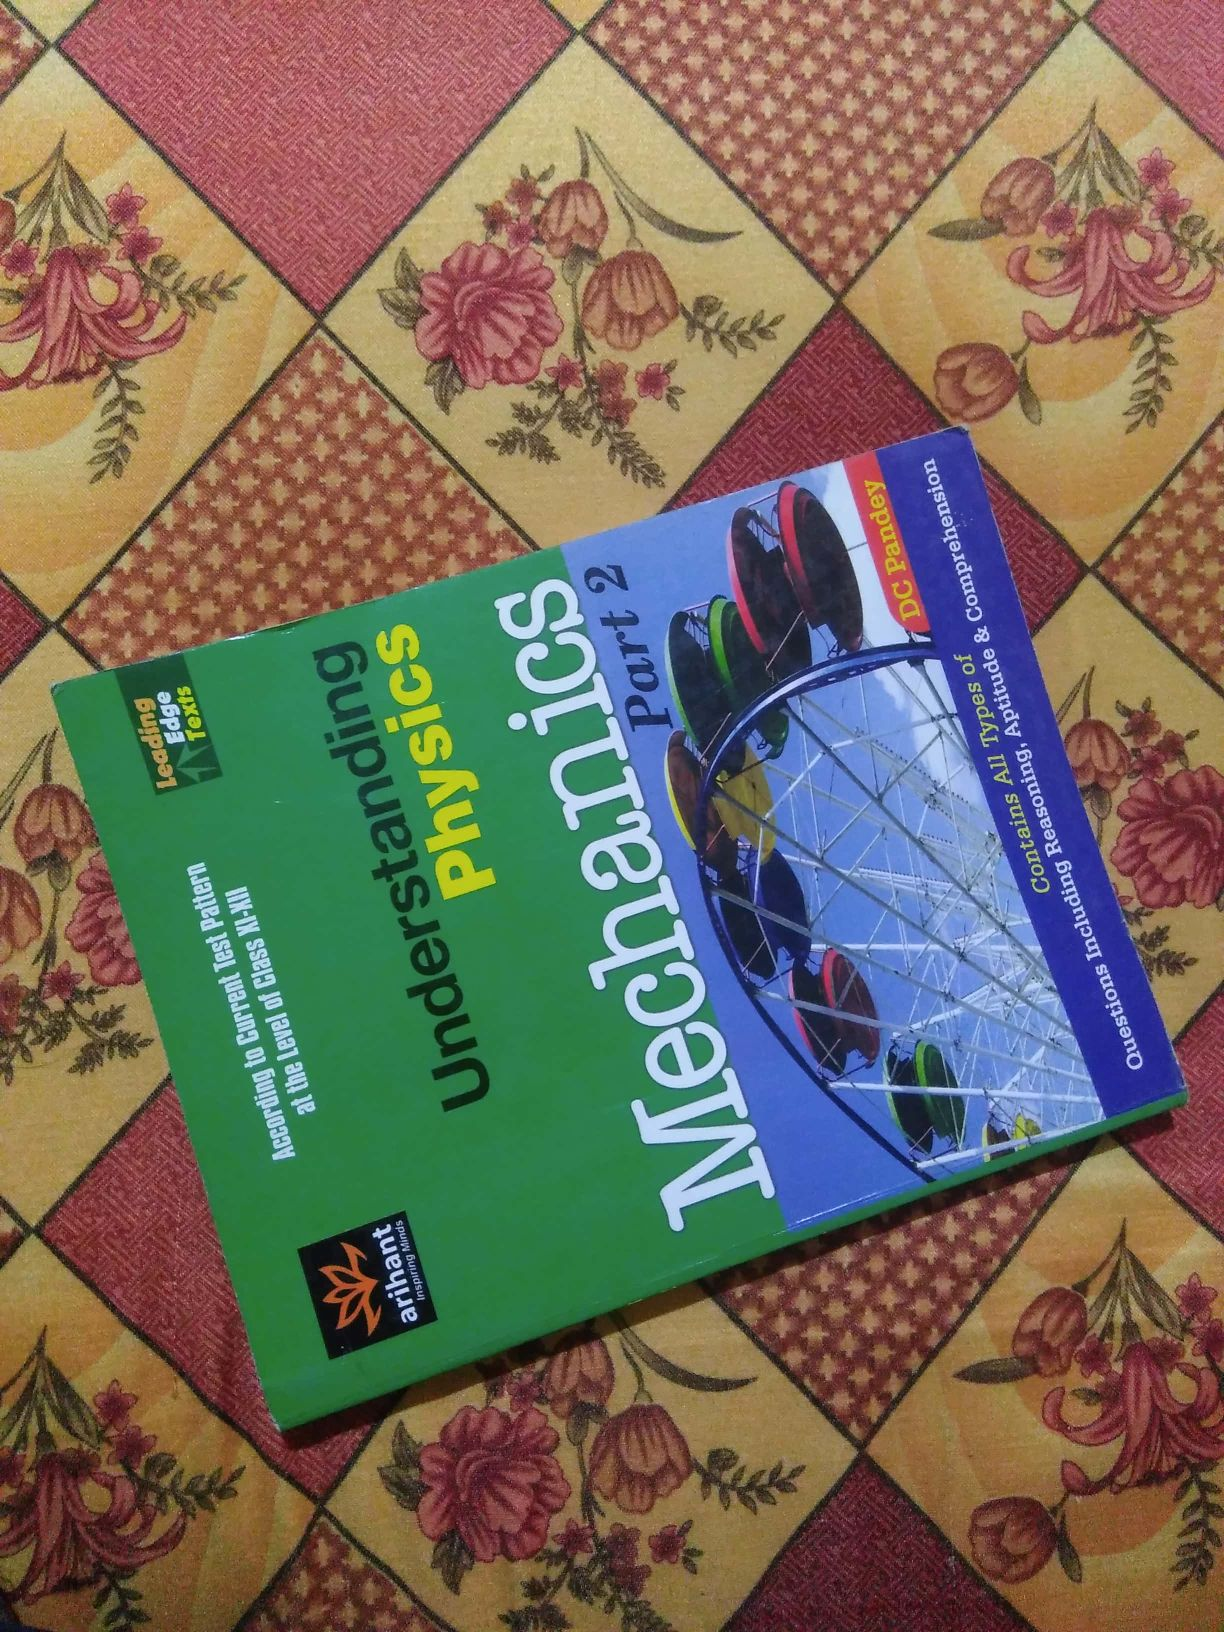mechanics: (102, 505, 1131, 1388)
